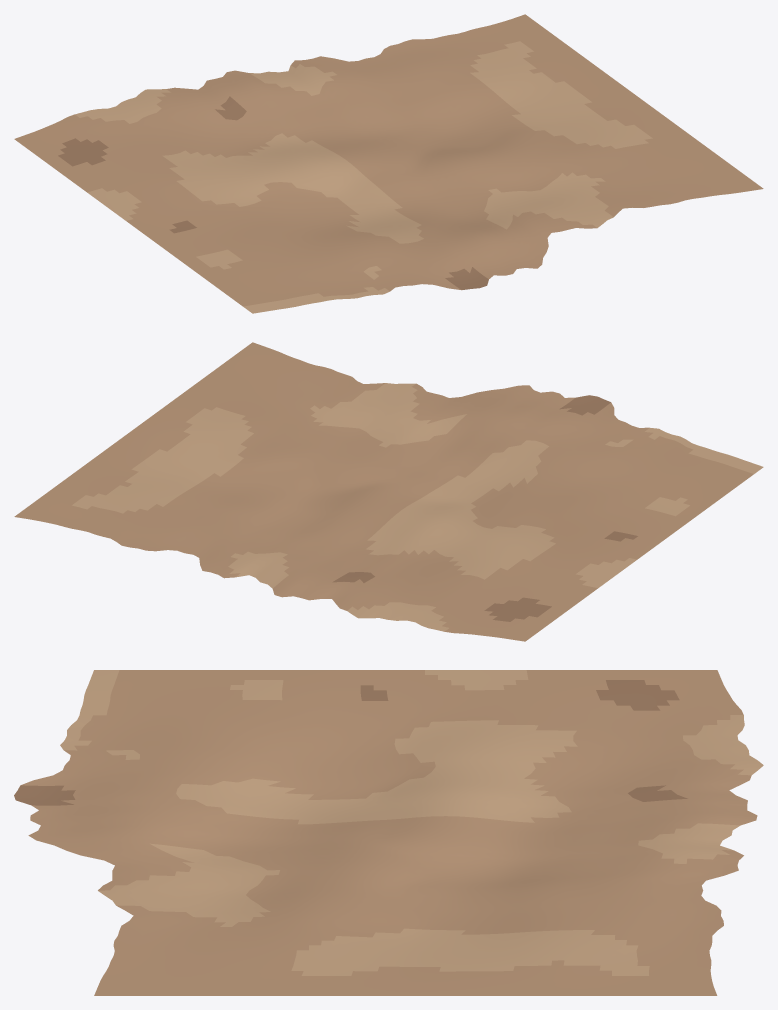
File: SM_CanyonFloor_Straight_A.glb
The picture shows the model from 3 angles, top to bottom: view 1: azimuth 30°, elevation 25°; view 2: azimuth 150°, elevation 25°; view 3: azimuth 270°, elevation 25°; orthographic projection. The views are drawn at different scales.
Parts seen in each view (by area): view 1: SM_CanyonFloor_Straight_A; view 2: SM_CanyonFloor_Straight_A; view 3: SM_CanyonFloor_Straight_A.
Boxes of the visible parts, box(x1,y1,x2,y2) form: SM_CanyonFloor_Straight_A: box(14, 14, 763, 313); SM_CanyonFloor_Straight_A: box(14, 342, 763, 641); SM_CanyonFloor_Straight_A: box(14, 670, 763, 995).
Bounding box in the file's own units: 24 × 0.4788 × 23.34.
